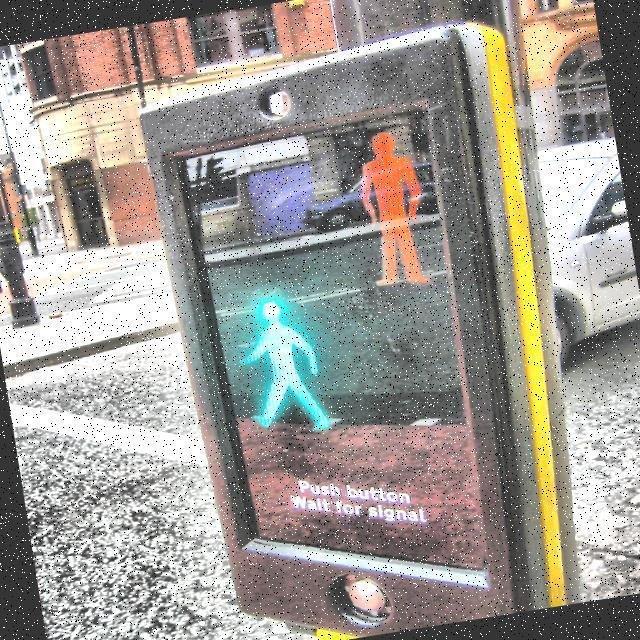green_light: (226, 290, 336, 444)
